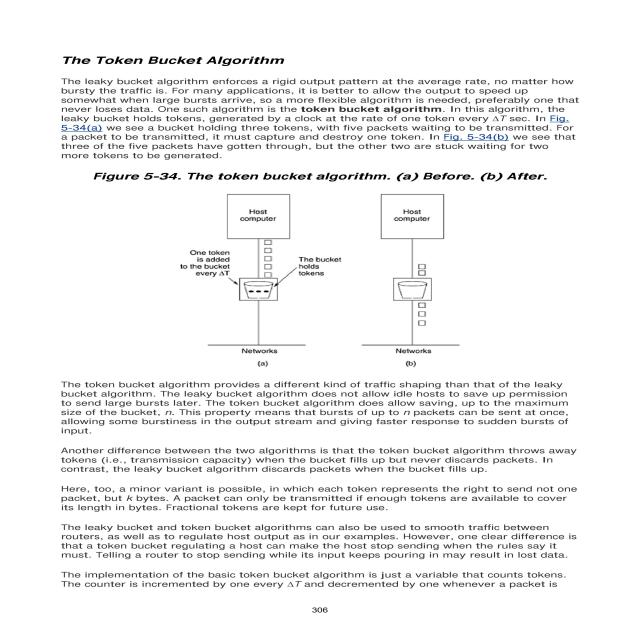diagram: (72, 164, 594, 379)
